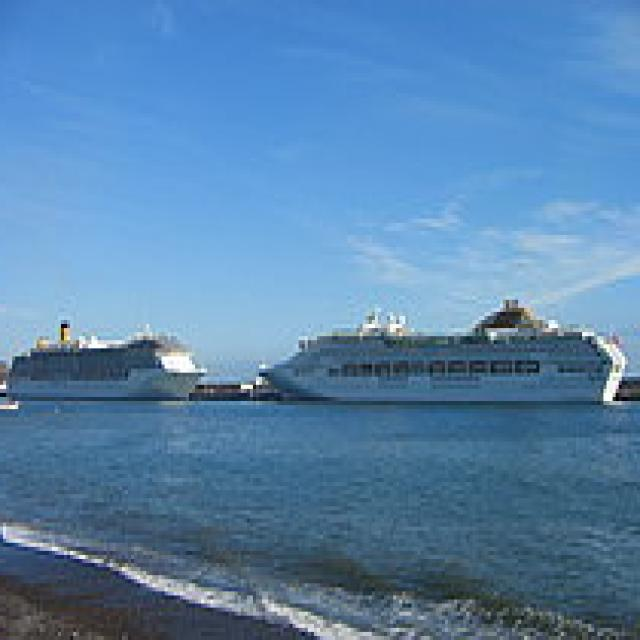Cruise: (259, 292, 634, 405), (6, 312, 213, 401)
